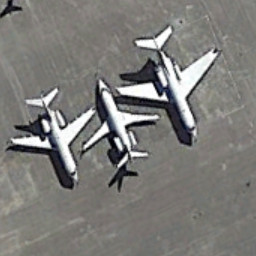Airplane: (112, 21, 231, 142), (6, 81, 99, 195), (80, 75, 160, 178)
